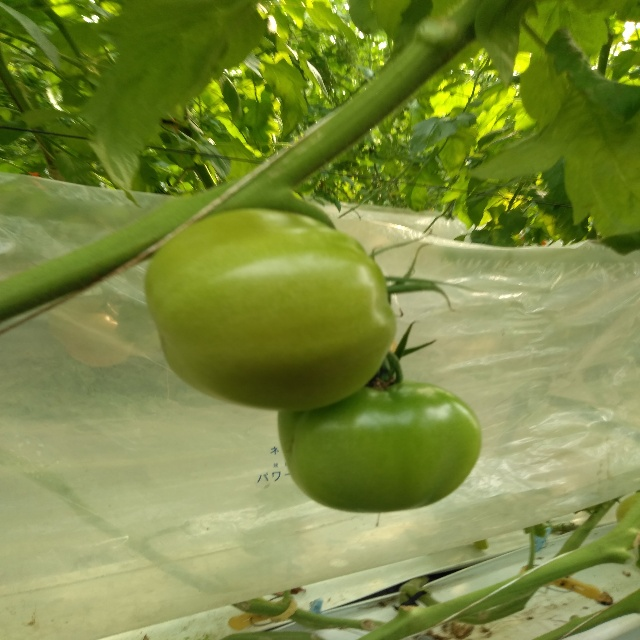b_green: (143, 208, 397, 411), (277, 381, 482, 513)
